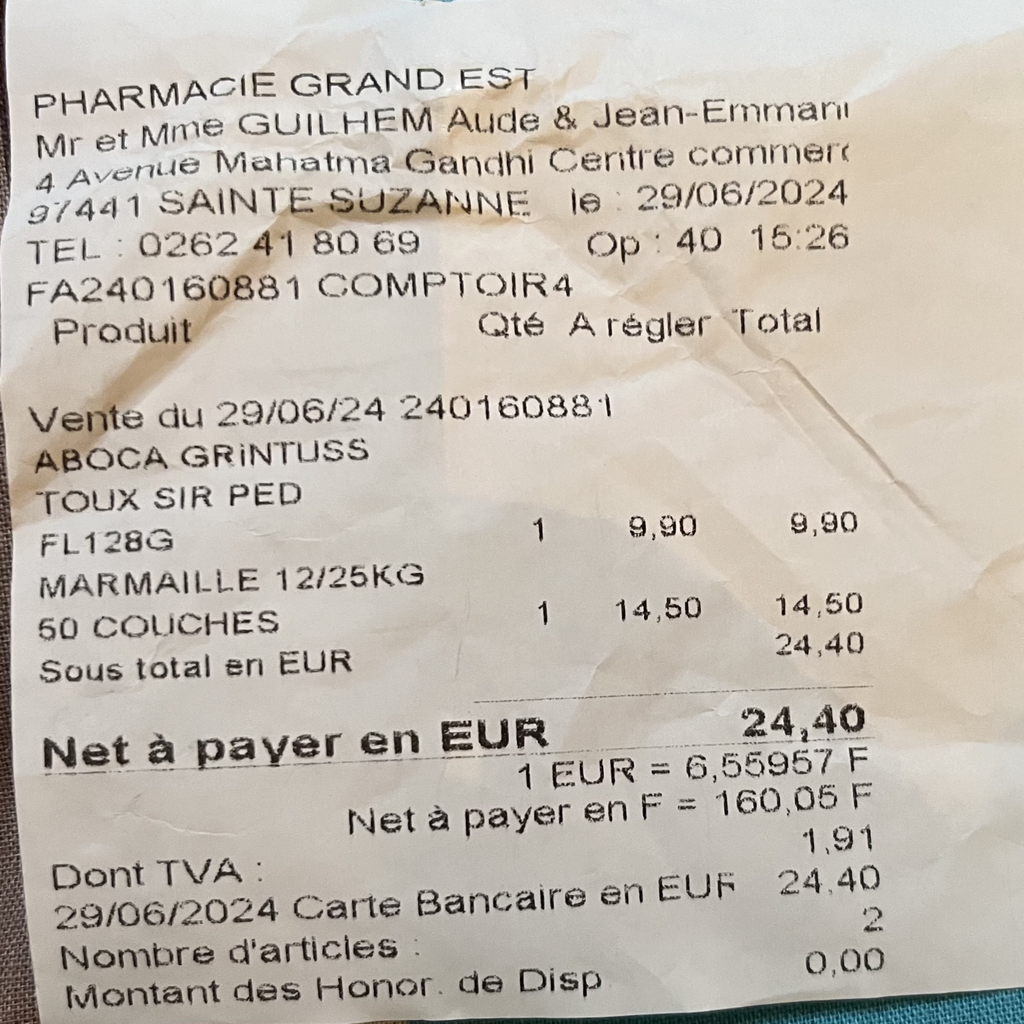recipt: (0, 6, 1005, 1022)
